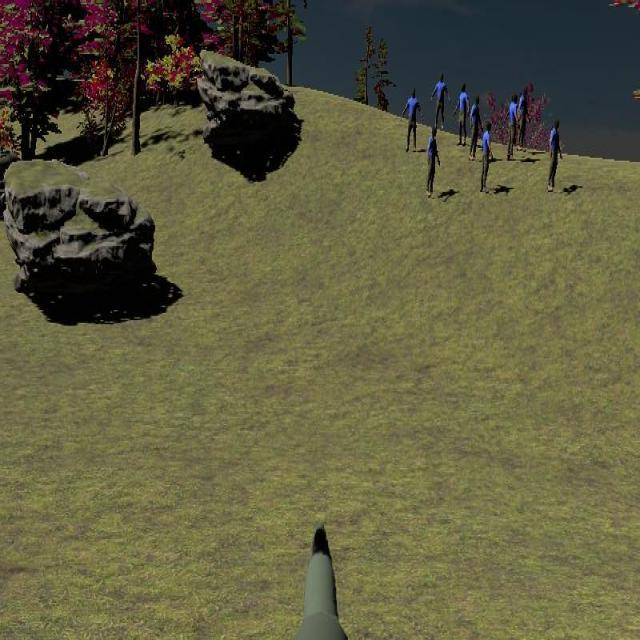Human: (402, 87, 423, 152), (431, 72, 450, 133), (548, 117, 563, 193), (454, 82, 470, 147), (505, 92, 519, 161), (469, 95, 483, 162), (481, 120, 493, 193)
